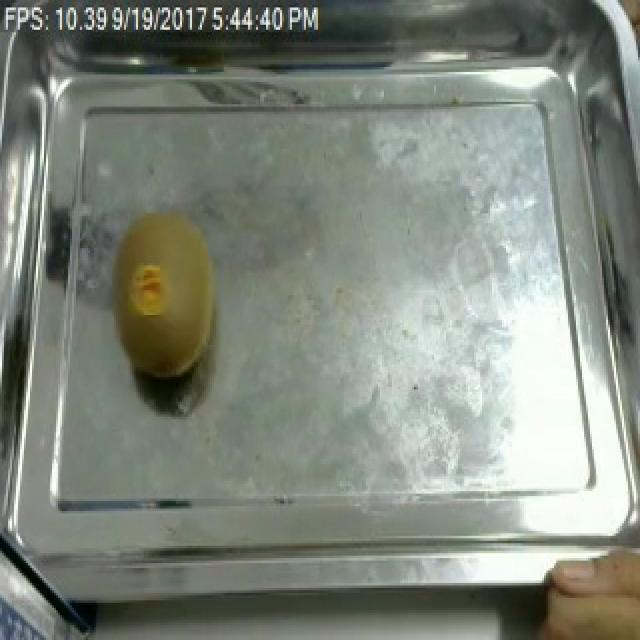Fruit: (102, 203, 228, 390), (512, 531, 640, 640)
